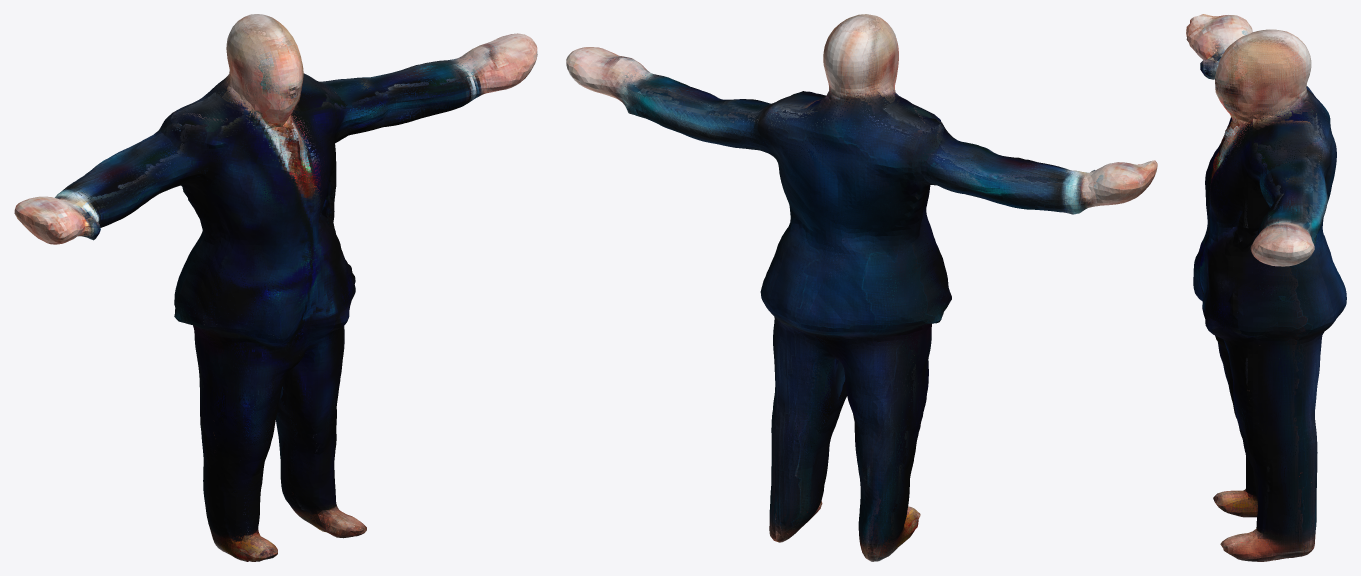
File: Jauretche (2).fbx
3 views of the same model, side by side, from view 1: azimuth 30°, elevation 25°; view 2: azimuth 150°, elevation 25°; view 3: azimuth 270°, elevation 25° (orthographic). The views are drawn at different scales.
Visible parts, largest first — view 1: Node #0; view 2: Node #0; view 3: Node #0.
Boxes of the visible parts, x1,y1,x2,y2 form: Node #0: (14,14,537,561); Node #0: (566,14,1157,561); Node #0: (1186,14,1346,561).
Size of the model in its own units: 1.44 by 1.34 by 0.3922.
1 material, 1 textured.
